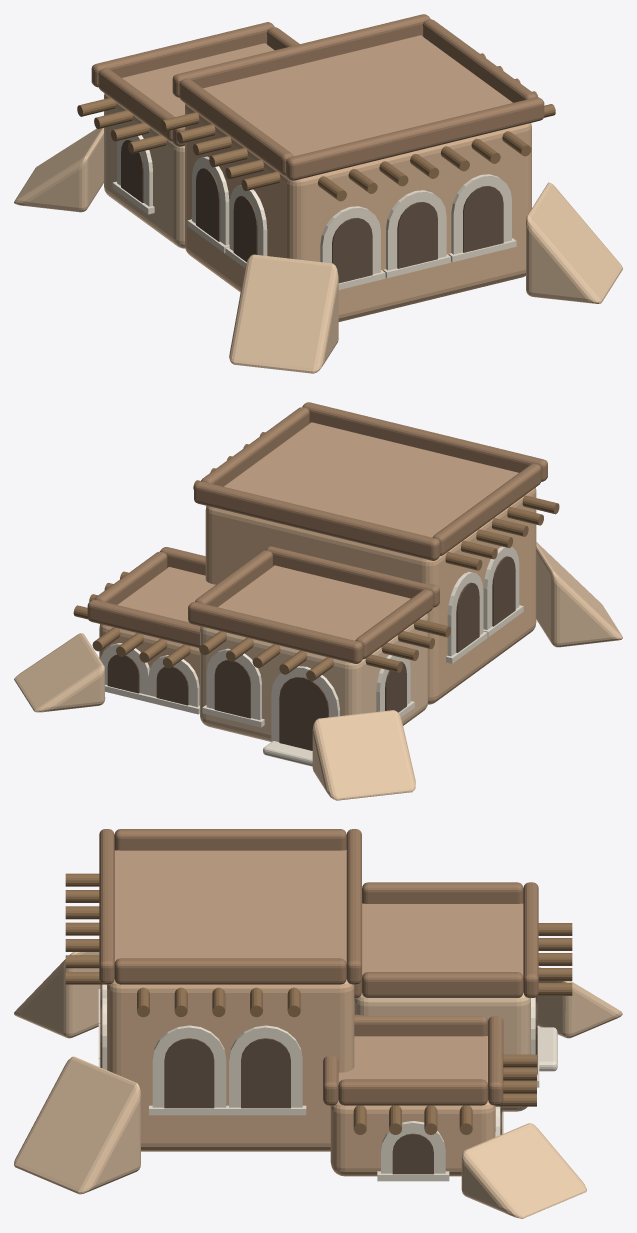
Rendered from openscad_miniature-brick-lumber-house_L5_Q1__kimi_k3.glb.
3 views of the same model, one above another, from view 1: azimuth 30°, elevation 25°; view 2: azimuth 150°, elevation 25°; view 3: azimuth 270°, elevation 25° (orthographic). The views are drawn at different scales.
Parts seen in each view (by area): view 1: object; view 2: object; view 3: object.
Boxes of the visible parts, bbox=[...] form: object: bbox=[14, 14, 622, 373]; object: bbox=[14, 402, 622, 800]; object: bbox=[14, 829, 622, 1218].
Bounding box in the file's own units: 933 × 368 × 1034.
